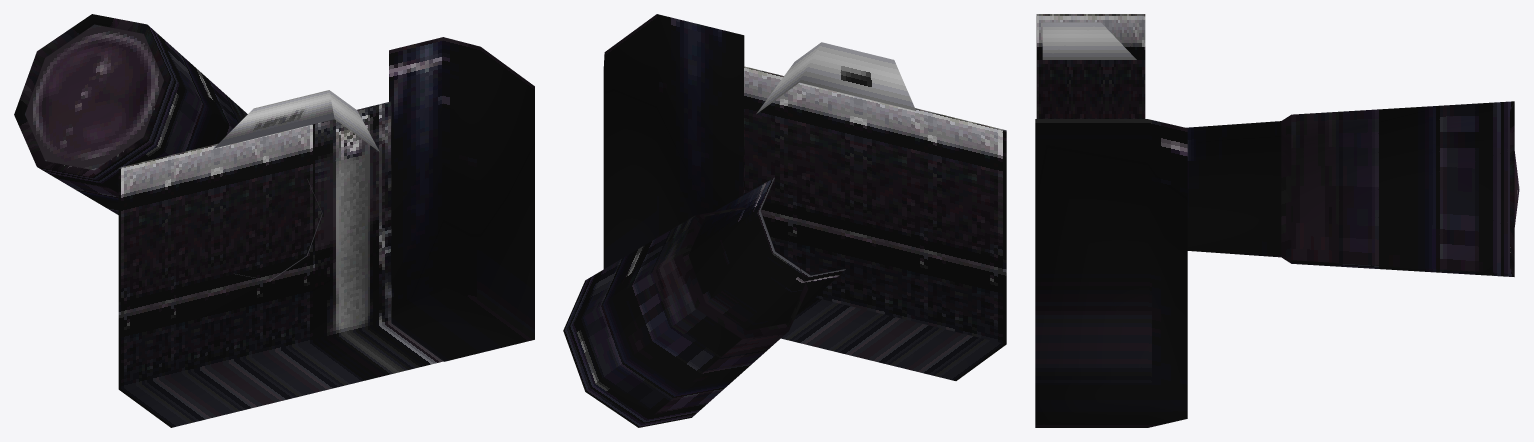
Rendered from ps2_save-icons_paparazzi.glb.
3 views of the same model, side by side, from view 1: azimuth 30°, elevation 25°; view 2: azimuth 150°, elevation 25°; view 3: azimuth 270°, elevation 25° (orthographic). The views are drawn at different scales.
Visible parts, largest first — view 1: ICON.ICO; view 2: ICON.ICO; view 3: ICON.ICO.
Boxes of the visible parts, x1,y1,x2,y2 form: ICON.ICO: (14,14,534,427); ICON.ICO: (563,14,1006,427); ICON.ICO: (1035,14,1519,427).
Bounding box in the file's own units: 3 × 2.12 × 3.34.
Materials: 1 (1 with a texture image).
